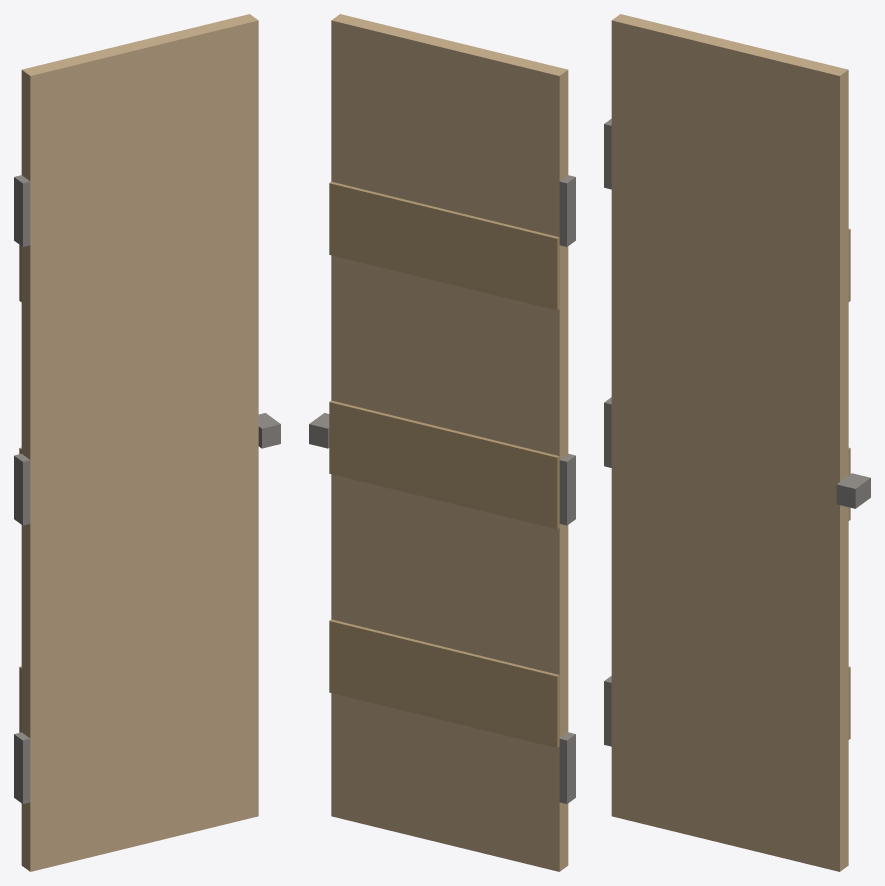
The model's file is 18-Casas_puerta_articulada.glb.
The picture shows the model from 3 angles, left to right: view 1: azimuth 30°, elevation 25°; view 2: azimuth 150°, elevation 25°; view 3: azimuth 330°, elevation 25°; orthographic projection.
Parts seen in each view (by area): view 1: SM_Puerta_Panel, SM_Puerta_Bisagra_2, SM_Puerta_Bisagra_1, SM_Puerta_Bisagra_3, SM_Puerta_Manija; view 2: SM_Puerta_Panel, SM_Puerta_Tablero_2, SM_Puerta_Tablero_1, SM_Puerta_Tablero_3, SM_Puerta_Bisagra_2, SM_Puerta_Bisagra_1, SM_Puerta_Bisagra_3, SM_Puerta_Manija; view 3: SM_Puerta_Panel, SM_Puerta_Manija, SM_Puerta_Bisagra_2, SM_Puerta_Bisagra_3, SM_Puerta_Bisagra_1.
Boxes of the visible parts, x1=… form: SM_Puerta_Panel: x1=21, y1=14, x2=258, y2=871; SM_Puerta_Bisagra_2: x1=14, y1=453, x2=30, y2=525; SM_Puerta_Bisagra_1: x1=14, y1=732, x2=30, y2=803; SM_Puerta_Bisagra_3: x1=14, y1=175, x2=30, y2=246; SM_Puerta_Manija: x1=258, y1=413, x2=280, y2=448; SM_Puerta_Panel: x1=331, y1=14, x2=568, y2=871; SM_Puerta_Tablero_2: x1=329, y1=400, x2=559, y2=529; SM_Puerta_Tablero_1: x1=329, y1=619, x2=559, y2=747; SM_Puerta_Tablero_3: x1=329, y1=181, x2=559, y2=310; SM_Puerta_Bisagra_2: x1=559, y1=453, x2=575, y2=525; SM_Puerta_Bisagra_1: x1=559, y1=732, x2=575, y2=803; SM_Puerta_Bisagra_3: x1=559, y1=175, x2=575, y2=246; SM_Puerta_Manija: x1=309, y1=413, x2=329, y2=448; SM_Puerta_Panel: x1=611, y1=14, x2=848, y2=871; SM_Puerta_Manija: x1=836, y1=473, x2=870, y2=508; SM_Puerta_Bisagra_2: x1=604, y1=397, x2=611, y2=467; SM_Puerta_Bisagra_3: x1=604, y1=119, x2=611, y2=189; SM_Puerta_Bisagra_1: x1=604, y1=676, x2=611, y2=746.
Size of the model in its own units: 0.67 by 2 by 0.07.
